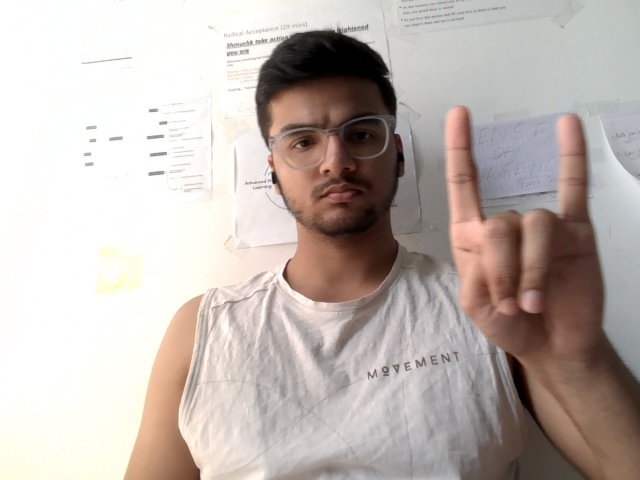iloveyou: (412, 91, 629, 369)
